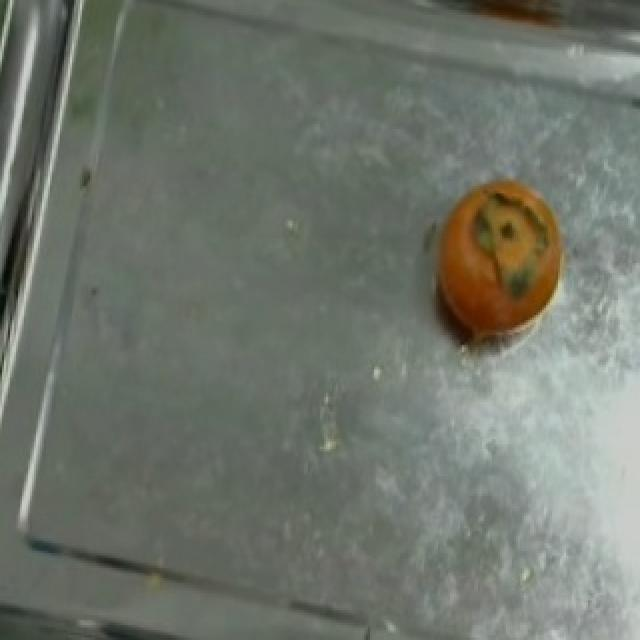Fruit: (414, 159, 586, 362)
